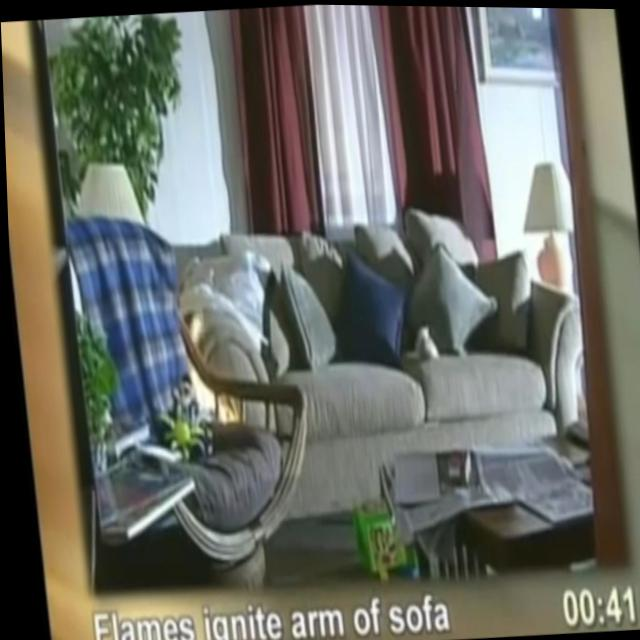fire: (177, 309, 232, 424)
